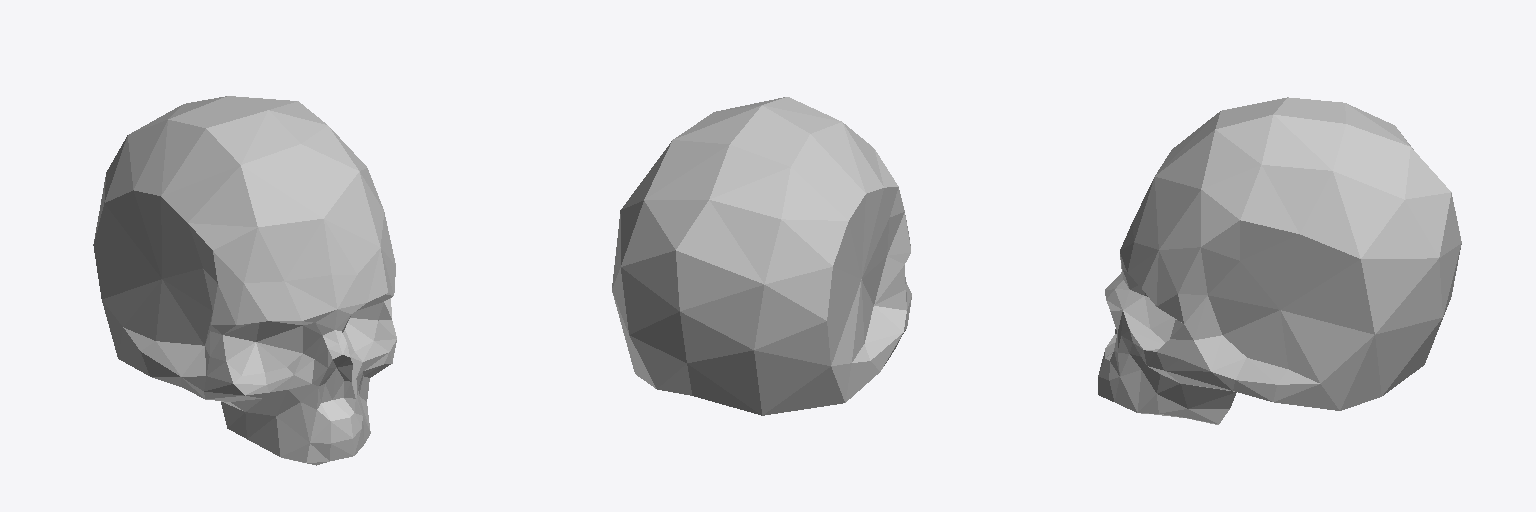
File: skull.obj
3 views of the same model, side by side, from view 1: azimuth 30°, elevation 25°; view 2: azimuth 150°, elevation 25°; view 3: azimuth 270°, elevation 25° (orthographic).
Visible parts, largest first — view 1: default; view 2: default; view 3: default.
Boxes of the visible parts, x1=… form: default: x1=93, y1=96, x2=396, y2=465; default: x1=612, y1=97, x2=911, y2=415; default: x1=1098, y1=97, x2=1461, y2=424.
Bounding box in the file's own units: 5.16 × 6.5 × 7.34.